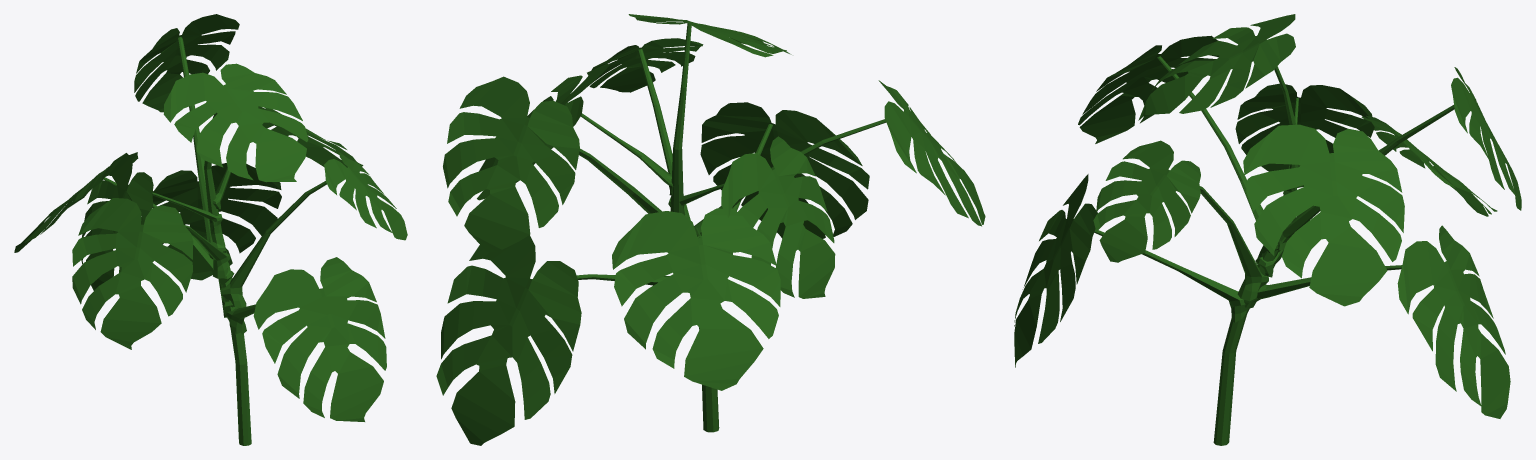
Rendered from SplitLeaf_Philodendron_01.fbx.
3 renders of one model, left to right at view 1: azimuth 30°, elevation 25°; view 2: azimuth 150°, elevation 25°; view 3: azimuth 270°, elevation 25°, orthographic. The views are drawn at different scales.
Visible parts, largest first — view 1: SplitLeaf_Philodendron_01; view 2: SplitLeaf_Philodendron_01; view 3: SplitLeaf_Philodendron_01.
Part boxes in pixels (left/top/right/bottom): SplitLeaf_Philodendron_01: left=14, top=14, right=407, bottom=445; SplitLeaf_Philodendron_01: left=436, top=14, right=985, bottom=445; SplitLeaf_Philodendron_01: left=1014, top=14, right=1521, bottom=445.
Bounding box in the file's own units: 90.52 × 90.61 × 101.
